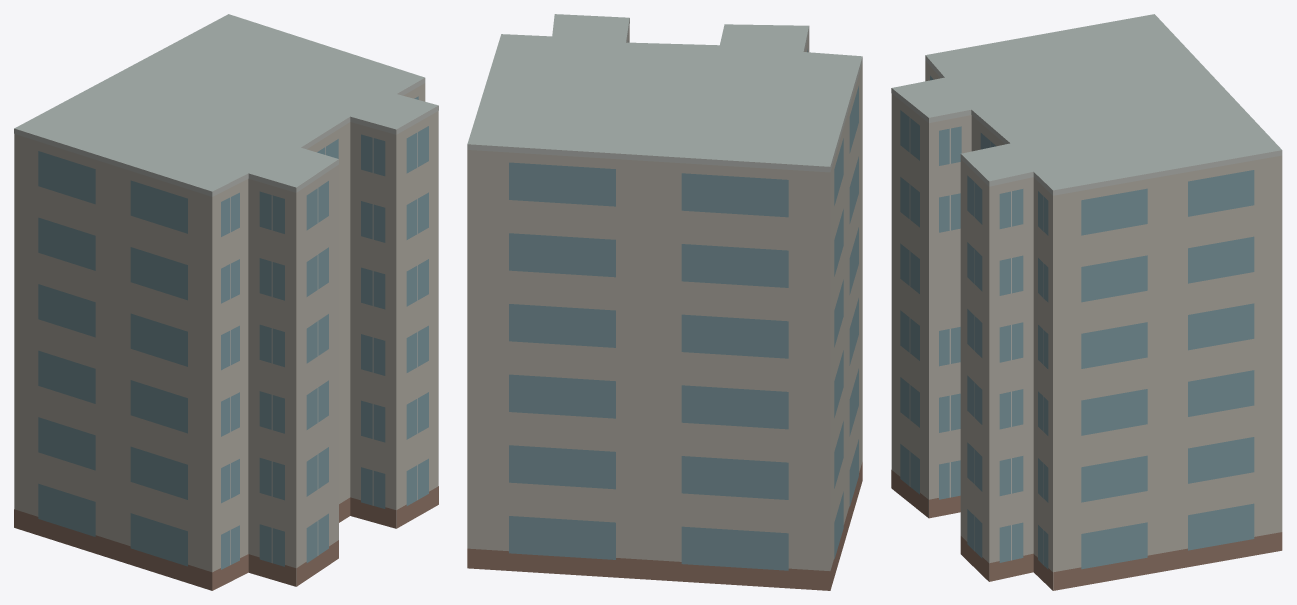
Rendered from survey-upis-32987976.glb.
3 views of the same model, side by side, from view 1: azimuth 30°, elevation 25°; view 2: azimuth 150°, elevation 25°; view 3: azimuth 270°, elevation 25° (orthographic). The views are drawn at different scales.
Visible parts, largest first — view 1: survey-upis-32987976.tmp; view 2: survey-upis-32987976.tmp; view 3: survey-upis-32987976.tmp.
Boxes of the visible parts, <box> form: survey-upis-32987976.tmp: <box>14,14,438,590</box>; survey-upis-32987976.tmp: <box>467,14,862,590</box>; survey-upis-32987976.tmp: <box>891,14,1282,590</box>.
Bounding box in the file's own units: 17.3 × 18.3 × 16.19.
